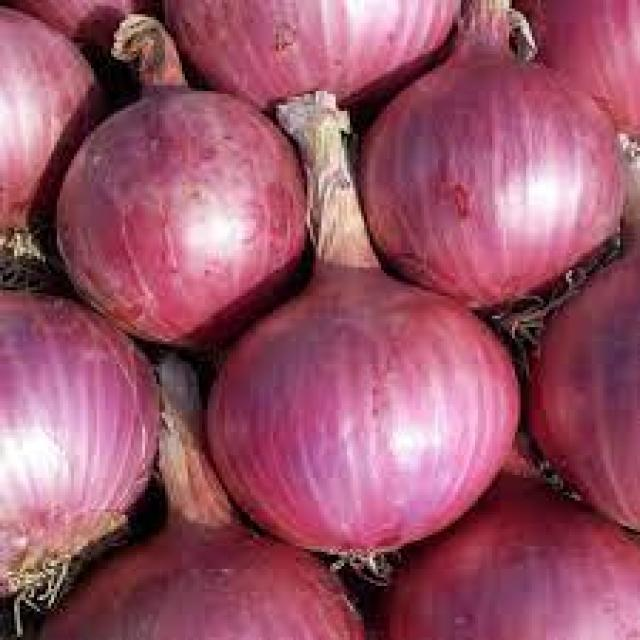onion: (220, 285, 521, 558), (61, 33, 310, 351), (370, 0, 620, 290), (0, 290, 159, 600), (168, 0, 451, 92), (0, 3, 97, 236)
